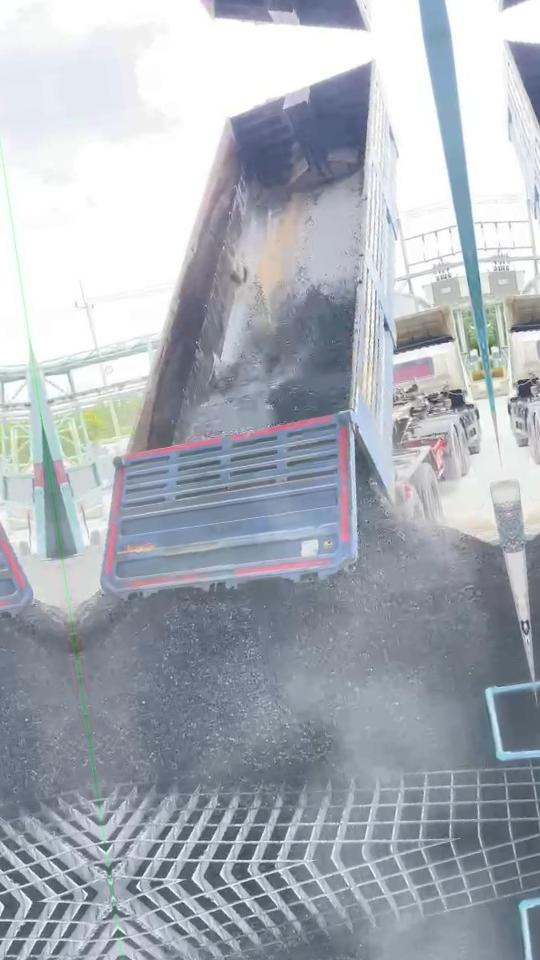gravel: (80, 500, 528, 786), (176, 172, 362, 442), (497, 692, 540, 750)
